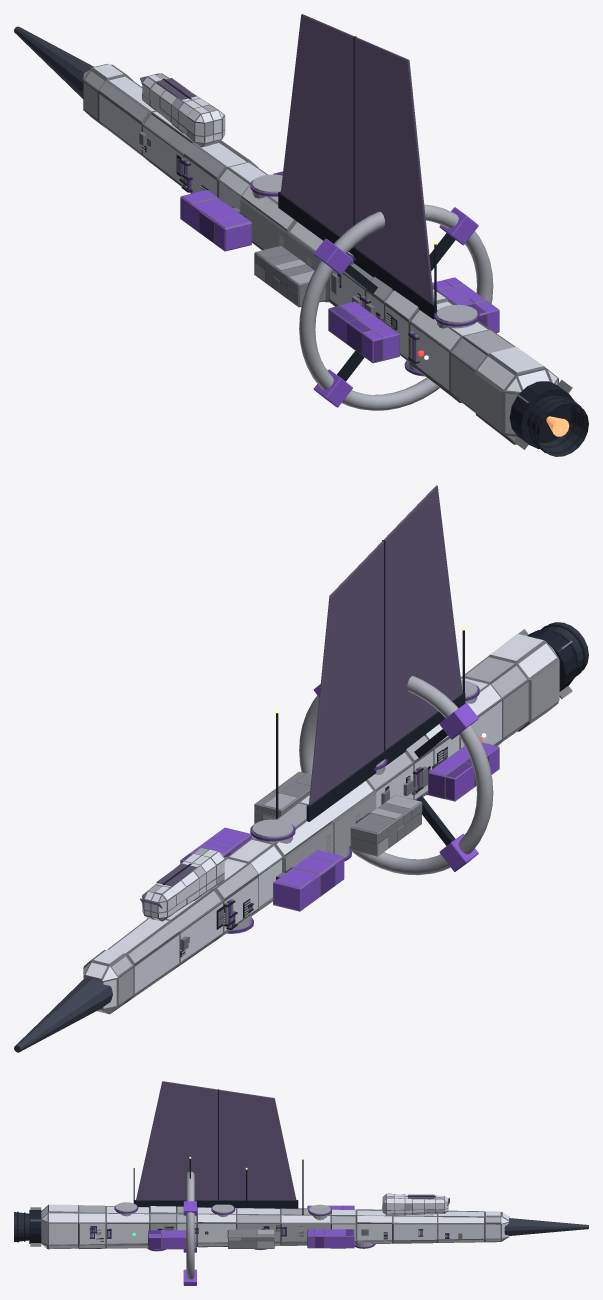
File: oracle.glb
3 renders of one model, top to bottom at view 1: azimuth 30°, elevation 25°; view 2: azimuth 150°, elevation 25°; view 3: azimuth 270°, elevation 25°, orthographic. The views are drawn at different scales.
Visible parts, largest first — view 1: oracle_mesh, ring_mesh; view 2: oracle_mesh, ring_mesh; view 3: oracle_mesh, ring_mesh.
Boxes of the visible parts, x1,y1,x2,y2 form: oracle_mesh: [14, 14, 588, 456]; ring_mesh: [299, 204, 493, 410]; oracle_mesh: [14, 485, 588, 1052]; ring_mesh: [299, 676, 493, 875]; oracle_mesh: [14, 1081, 588, 1251]; ring_mesh: [183, 1171, 196, 1285].
Bounding box in the file's own units: 12.44 × 22.95 × 61.31.
